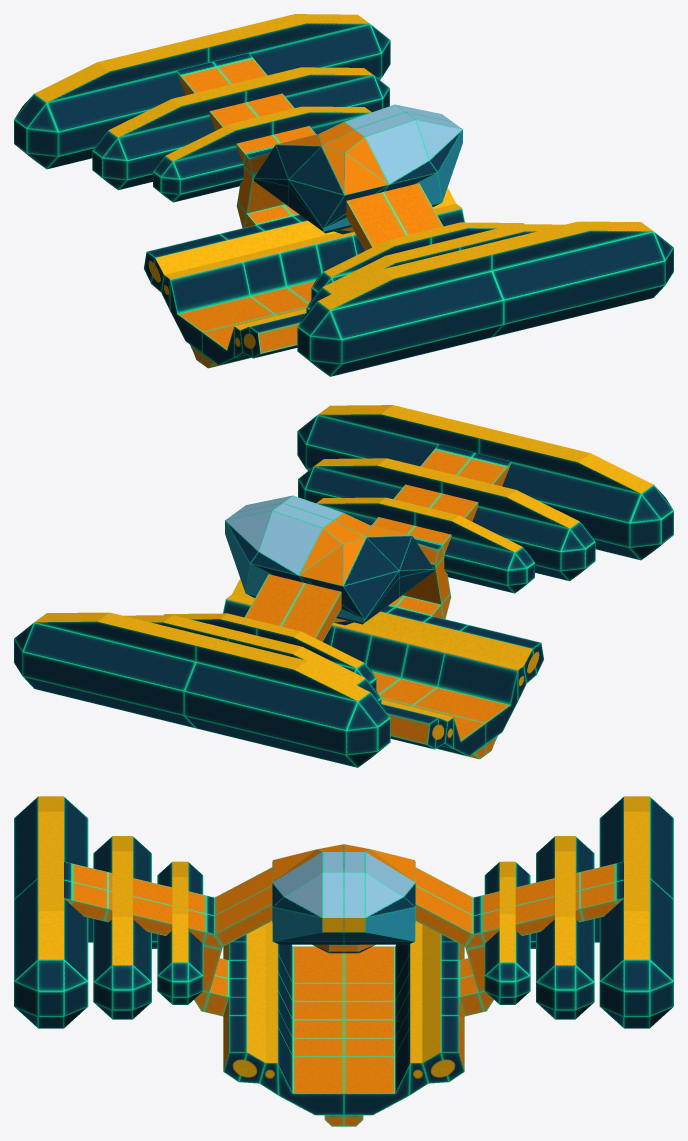
Rendered from CargoShip.fbx.
3 renders of one model, top to bottom at view 1: azimuth 30°, elevation 25°; view 2: azimuth 150°, elevation 25°; view 3: azimuth 270°, elevation 25°, orthographic. The views are drawn at different scales.
Visible parts, largest first — view 1: Cube, Cube.001; view 2: Cube, Cube.001; view 3: Cube, Cube.001.
Boxes of the visible parts, bbox=[...] form: Cube: bbox=[14, 14, 673, 376]; Cube.001: bbox=[253, 104, 462, 234]; Cube: bbox=[14, 405, 673, 767]; Cube.001: bbox=[225, 495, 434, 625]; Cube: bbox=[14, 796, 673, 1126]; Cube.001: bbox=[272, 844, 415, 953].
Bounding box in the file's own units: 324 × 172 × 493.
